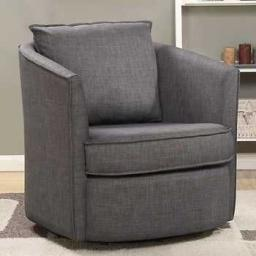Chair: (22, 26, 238, 241)
